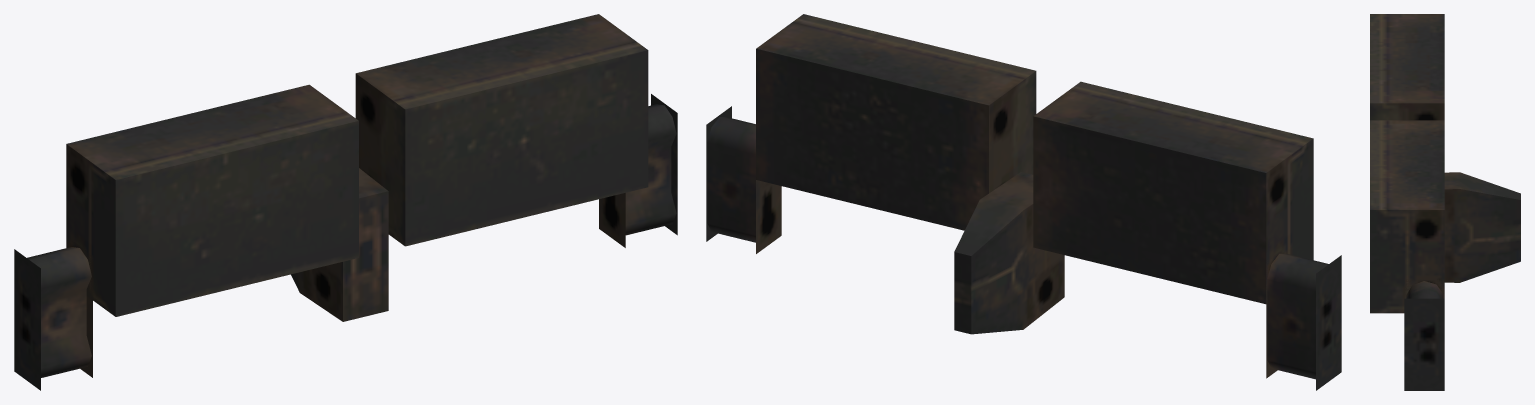
3 renders of one model, left to right at view 1: azimuth 30°, elevation 25°; view 2: azimuth 150°, elevation 25°; view 3: azimuth 270°, elevation 25°, orthographic. The views are drawn at different scales.
Visible parts, largest first — view 1: set_0_group_0; view 2: set_0_group_0; view 3: set_0_group_0.
Part boxes in pixels (x1,y1,x2,y2): set_0_group_0: (14,14,677,390); set_0_group_0: (706,14,1341,390); set_0_group_0: (1370,14,1520,390).
Bounding box in the file's own units: 0.6985 × 0.2261 × 0.1899.
1 material, 1 textured.
